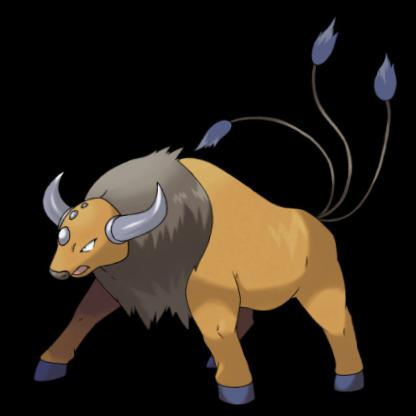Tauros: (1, 28, 416, 416)
